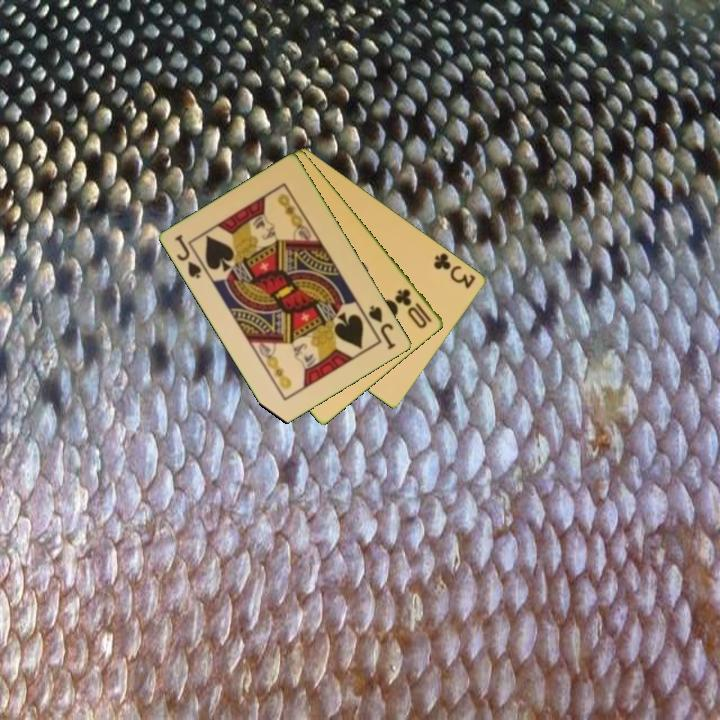10c: (392, 285, 435, 332)
3c: (430, 249, 479, 292)
Js: (171, 231, 205, 282), (365, 302, 399, 352)
